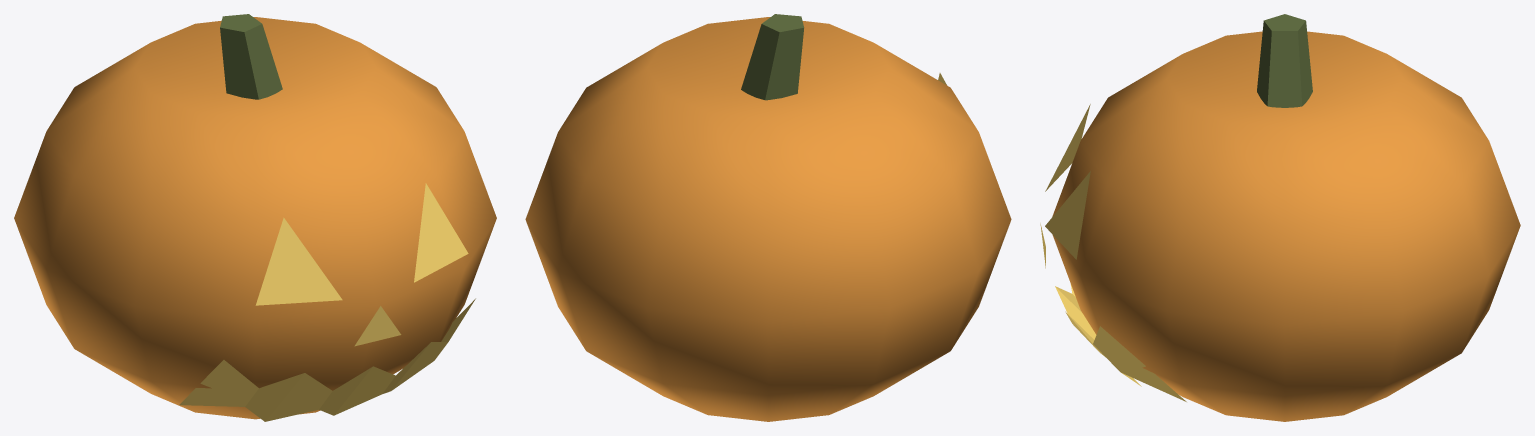
Rendered from Env_Pumpkin.fbx.
3 views of the same model, side by side, from view 1: azimuth 30°, elevation 25°; view 2: azimuth 150°, elevation 25°; view 3: azimuth 270°, elevation 25° (orthographic). The views are drawn at different scales.
Visible parts, largest first — view 1: Body, Face, Stem; view 2: Body, Stem; view 3: Body, Face, Stem.
Boxes of the visible parts, <box> form: Body: <box>14,17,496,419</box>; Face: <box>179,183,475,421</box>; Stem: <box>220,14,282,99</box>; Body: <box>525,17,1011,421</box>; Stem: <box>741,14,804,100</box>; Body: <box>1052,31,1520,421</box>; Face: <box>1040,104,1186,401</box>; Stem: <box>1257,14,1312,107</box>.
Bounding box in the file's own units: 1.06 × 0.8604 × 1.08.
